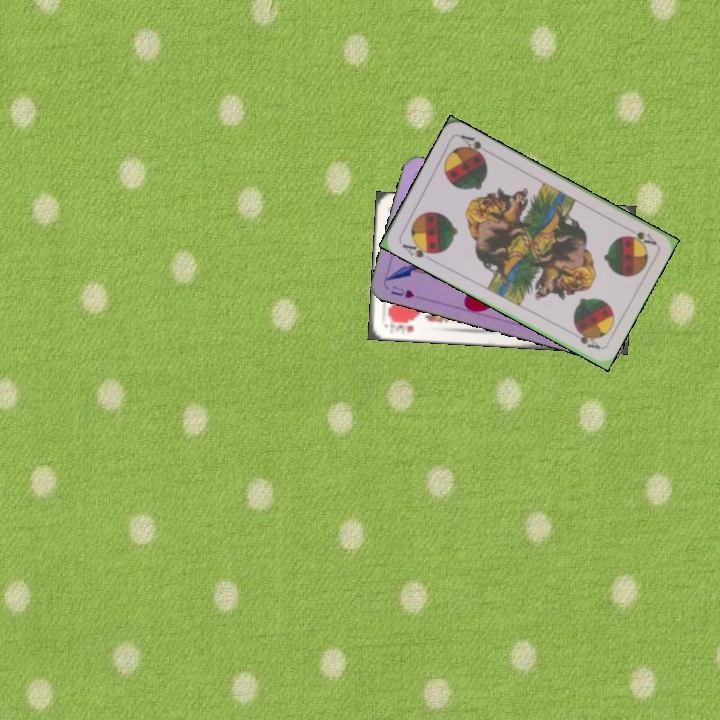HK: (388, 316, 417, 337)
HU: (387, 282, 417, 301)
SA: (398, 237, 438, 263), (621, 222, 659, 248)
